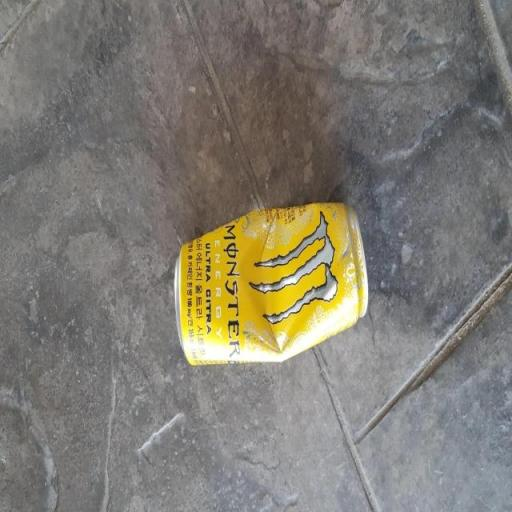metal: (154, 174, 397, 399)
